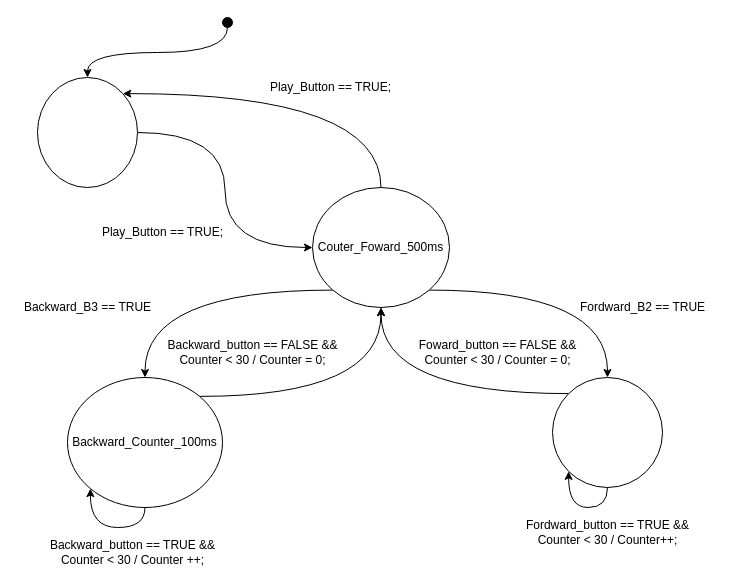
This 729x585 diagram has some shape labels left out. The shapes that lost their labels are listed below. From the top down, each one's centre as x and y in pixels, then its label:
At [87,132]: "Pause/Standbye".
At [607,432]: "Foward_Counter".
